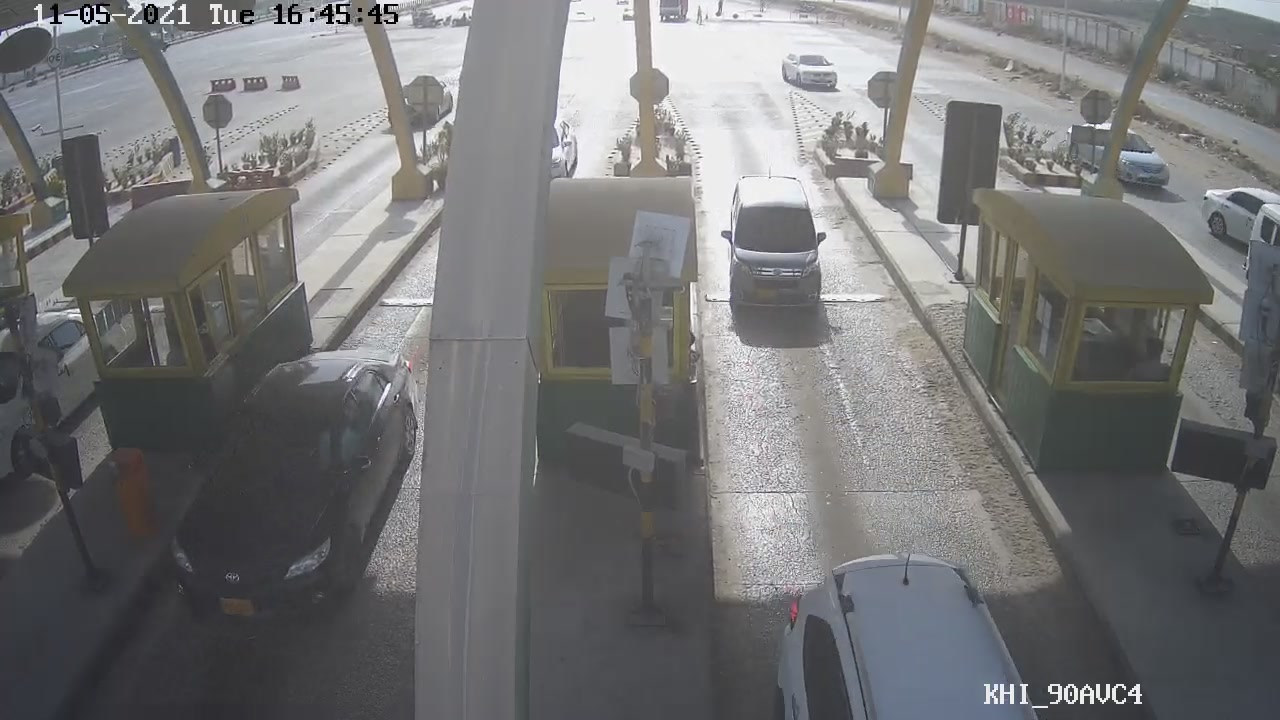F1: (715, 171, 837, 318)
